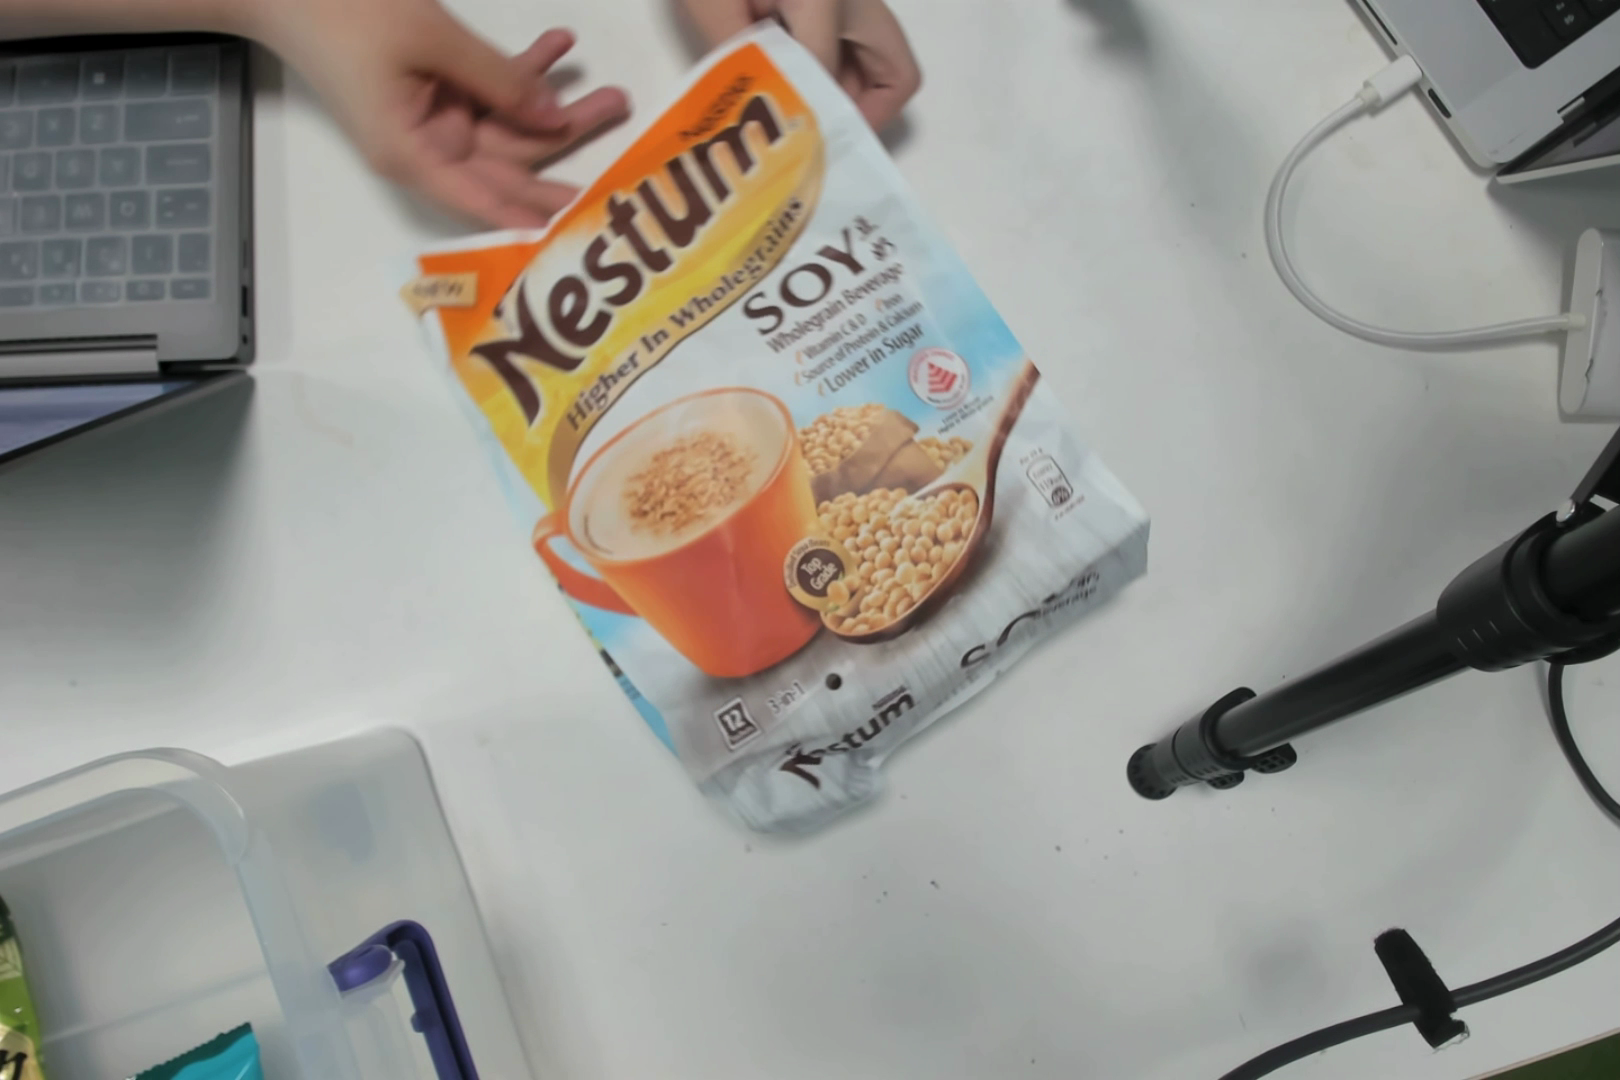e: (548, 212, 1104, 803)
